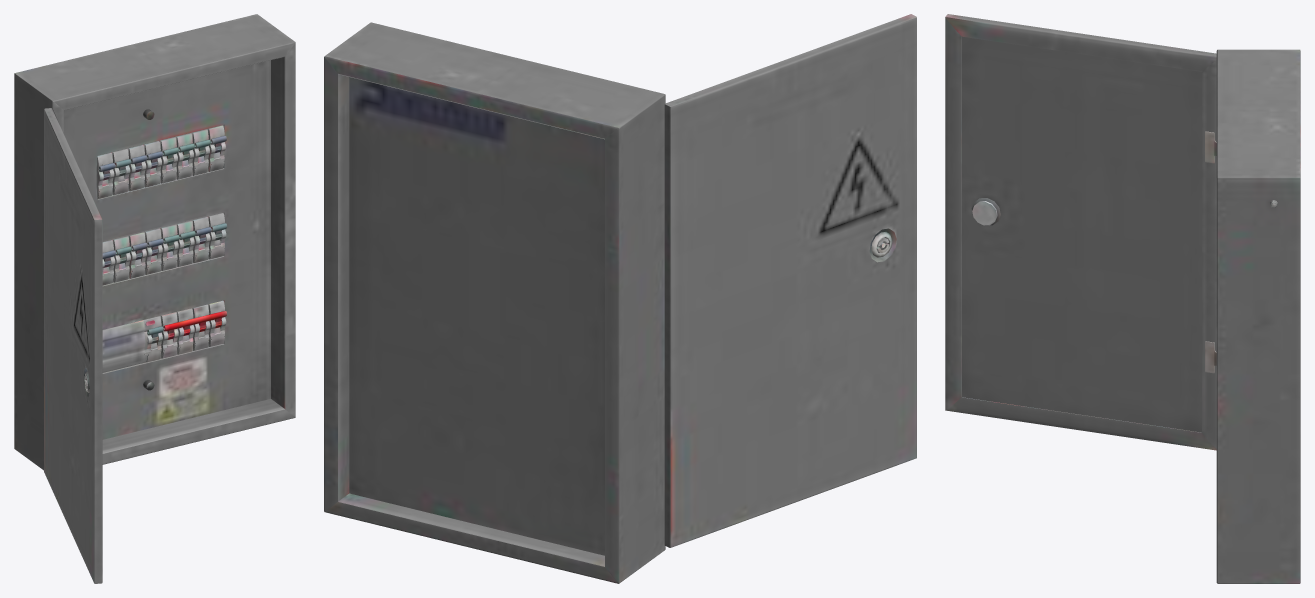
The model's file is power_box_01.gltf.
3 renders of one model, left to right at view 1: azimuth 30°, elevation 25°; view 2: azimuth 150°, elevation 25°; view 3: azimuth 270°, elevation 25°, orthographic. The views are drawn at different scales.
Visible parts, largest first — view 1: power_box_01_box, power_box_01_door; view 2: power_box_01_box, power_box_01_door; view 3: power_box_01_door, power_box_01_box.
Part boxes in pixels (box(x1,y1,x2,y2)): power_box_01_box: box(14, 14, 295, 470); power_box_01_door: box(44, 108, 102, 583); power_box_01_box: box(324, 22, 665, 583); power_box_01_door: box(664, 14, 916, 547); power_box_01_door: box(945, 14, 1216, 450); power_box_01_box: box(1216, 49, 1300, 583).
Bounding box in the file's own units: 0.4613 × 0.5031 × 0.399.
1 material, 1 textured.
